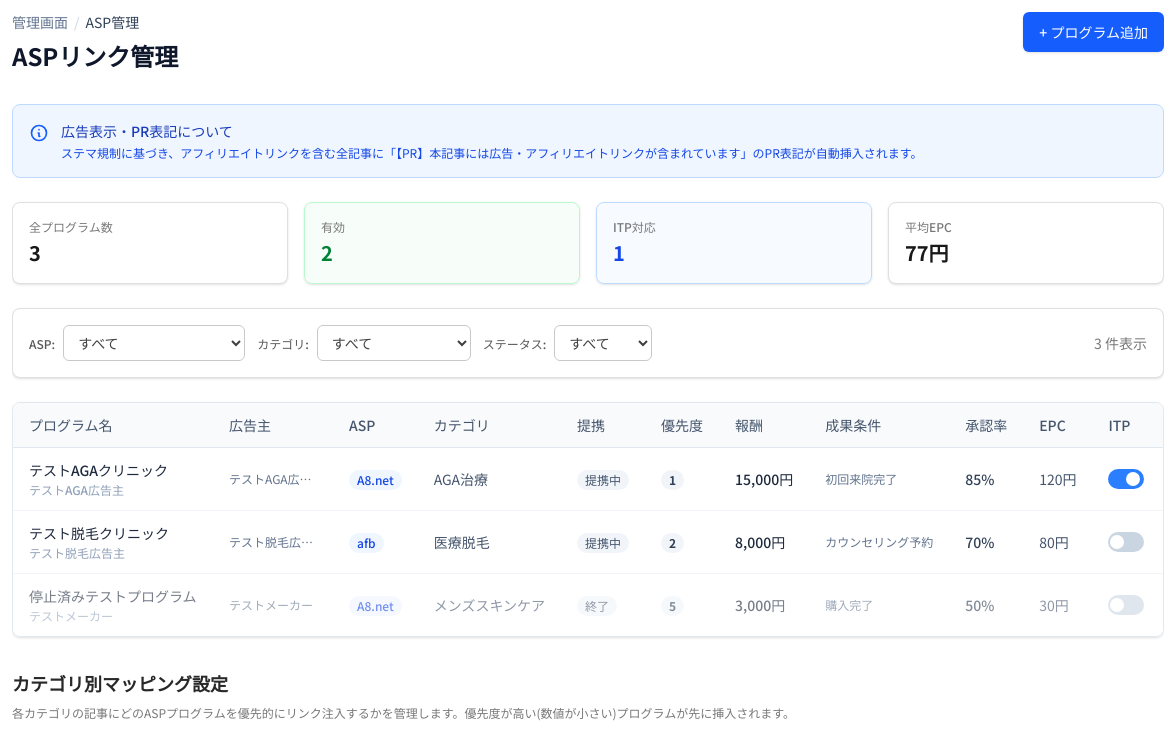
Test: AspManagement › ステータスでフィルタリングできる（有効のみ）
The width and height of the screenshot is (1176, 731).
Check: the text "テストAGAクリニック" is shown, box 29,460 -> 168,480
Select "有効のみ" in the dropdown labelled "ステータス:". click: [603, 343]
box: 554,325 -> 652,361
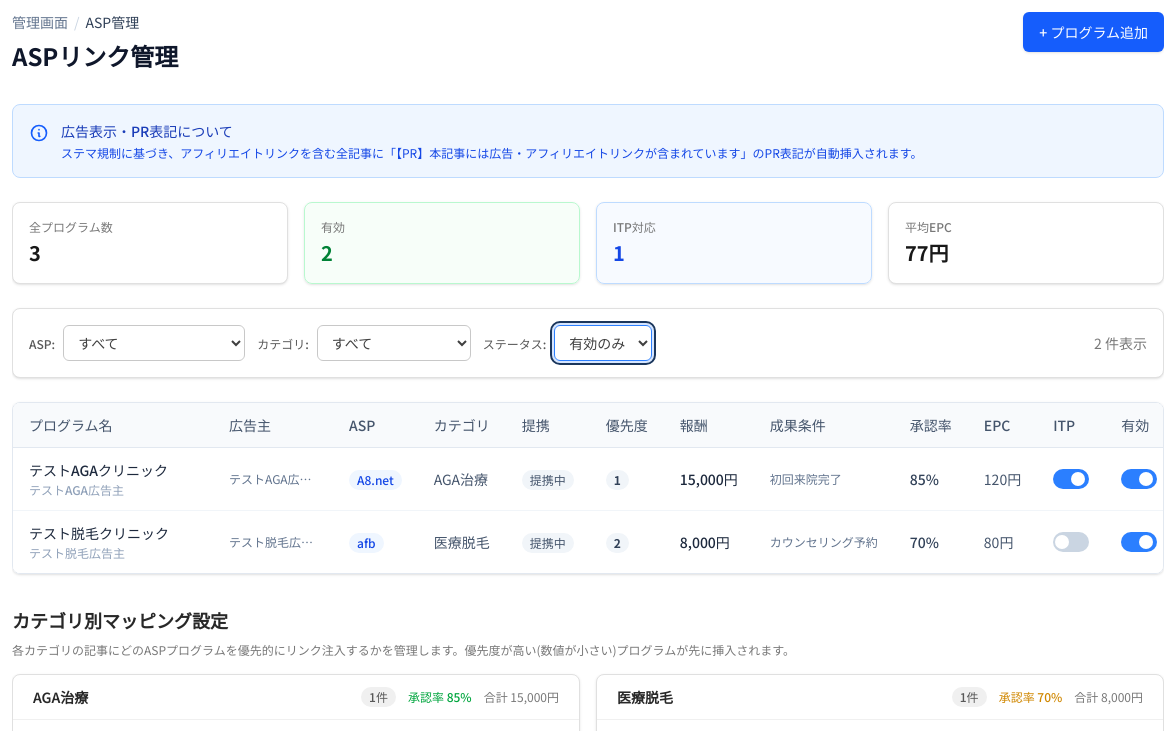
Check: the text "テストAGAクリニック" in the row of "初回来院完了" is shown, box 29,460 -> 168,480
Check: the text "停止済みテストプログラム" is gone
